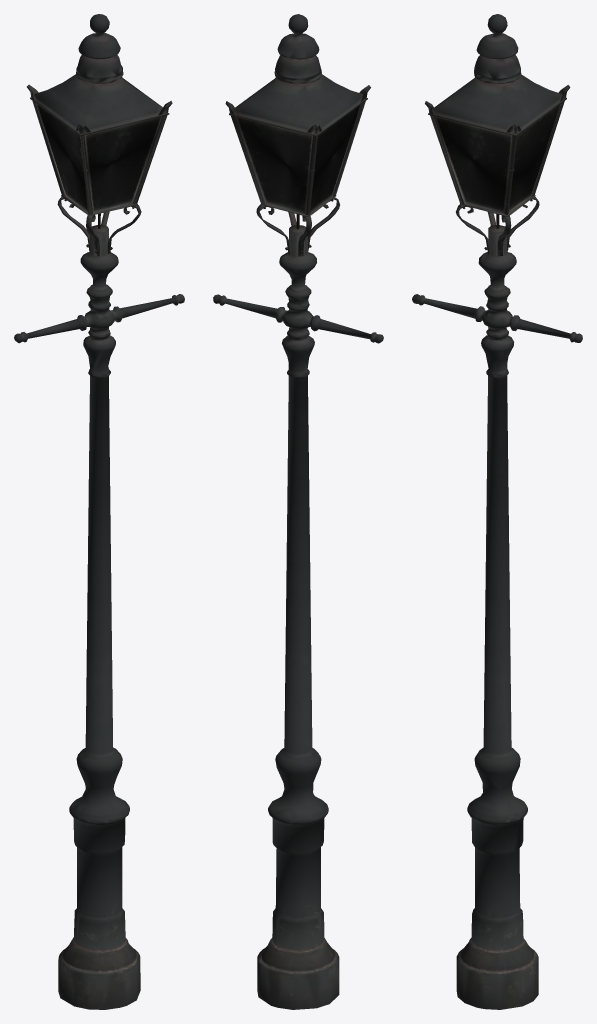
Rendered from street_lamp_01.glb.
3 renders of one model, left to right at view 1: azimuth 30°, elevation 25°; view 2: azimuth 150°, elevation 25°; view 3: azimuth 330°, elevation 25°, orthographic.
Parts seen in each view (by area): view 1: street_lamp_01; view 2: street_lamp_01; view 3: street_lamp_01.
Boxes of the visible parts, left/top/right/bottom form: street_lamp_01: left=14, top=14, right=184, bottom=1009; street_lamp_01: left=213, top=14, right=383, bottom=1009; street_lamp_01: left=412, top=14, right=582, bottom=1009.
Size of the model in its own units: 0.703 by 3.87 by 0.386.
2 materials, 2 textured.
